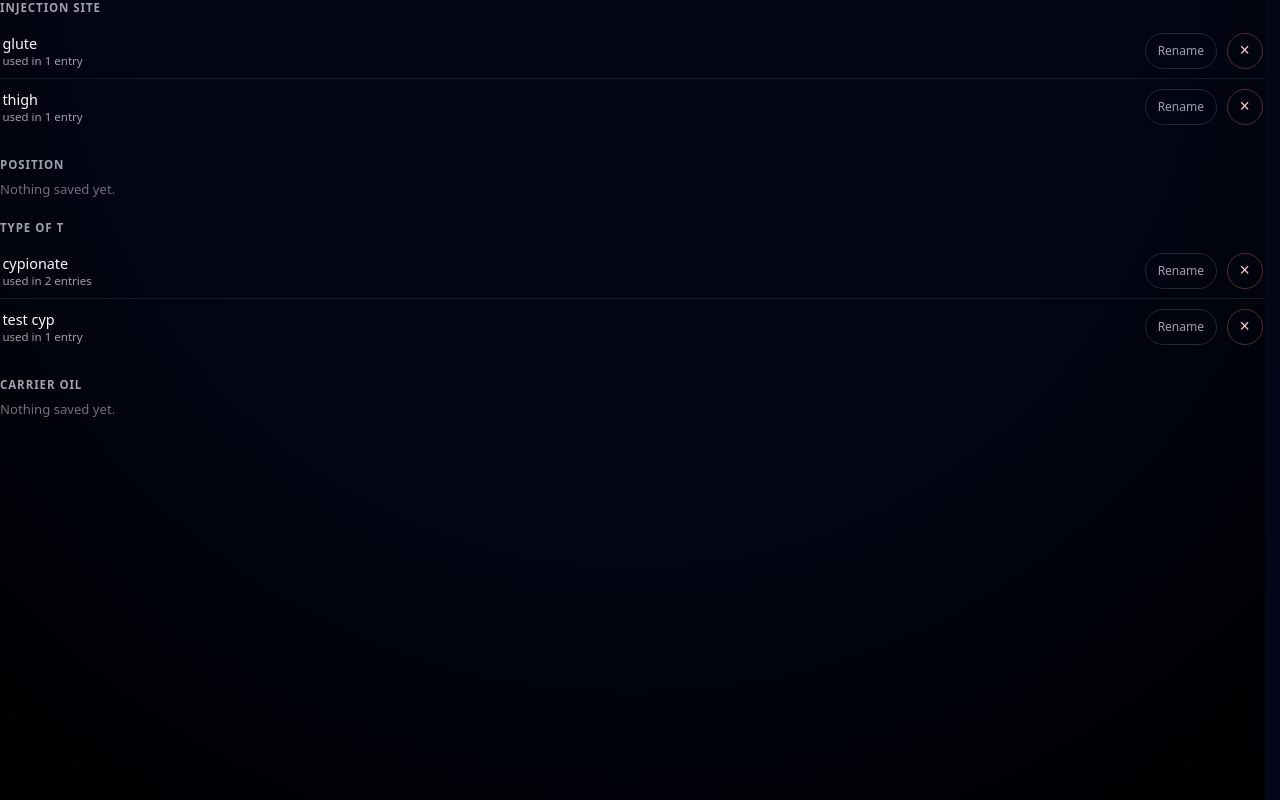
Test: ManageValues › holds the rename dialog open when the change can't be written
Click the button "Rename" in the row of "test cyp" at (1181, 327), box x1=1145 y1=309 x2=1217 y2=345
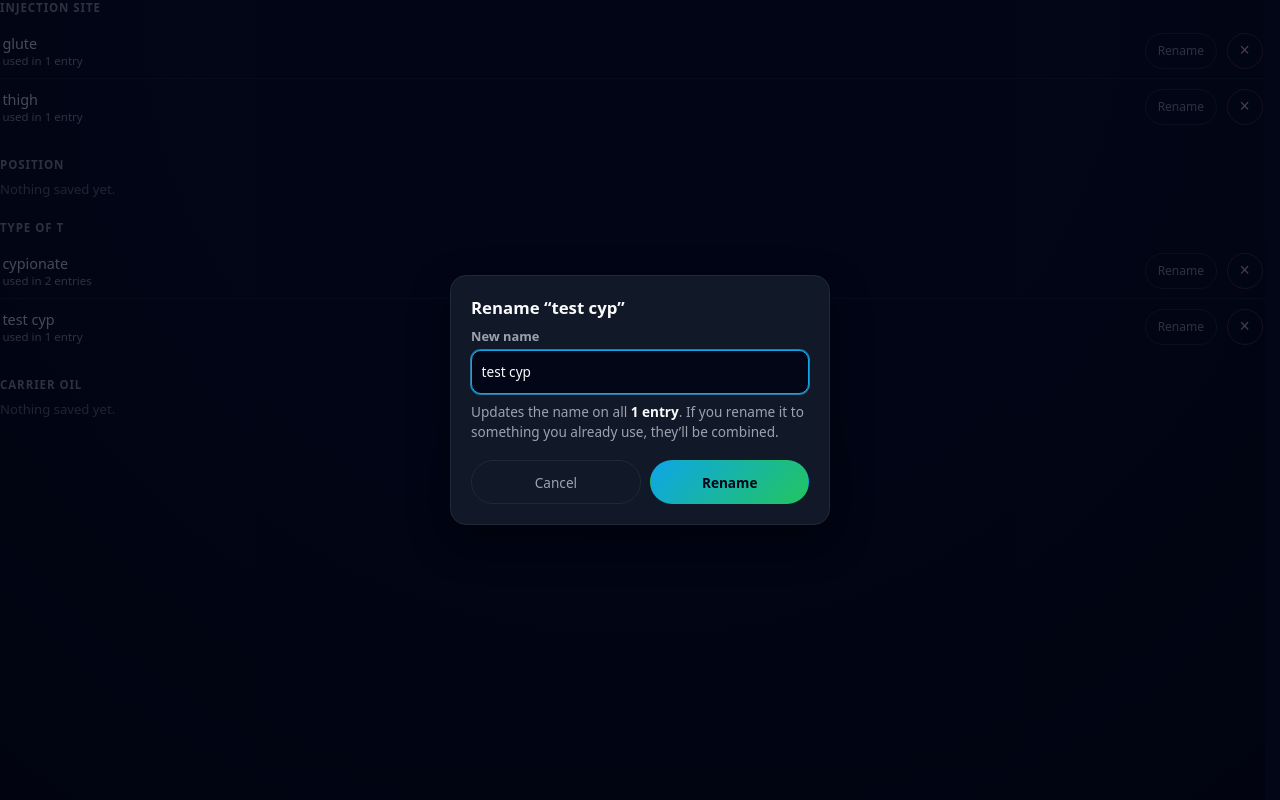
Replace the text in the field with "cyp" at (640, 372), box x1=471 y1=350 x2=809 y2=394
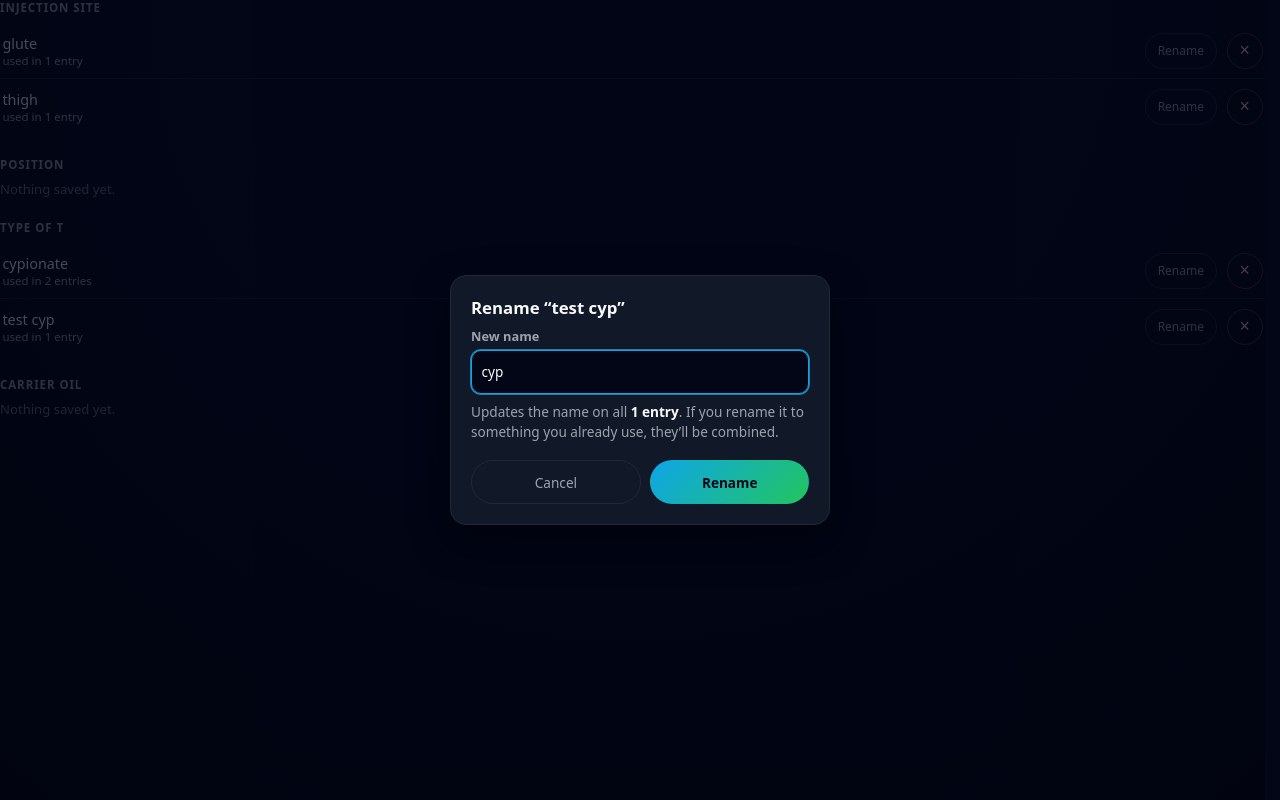
Click the button "Rename" at (730, 482), box x1=650 y1=460 x2=809 y2=504
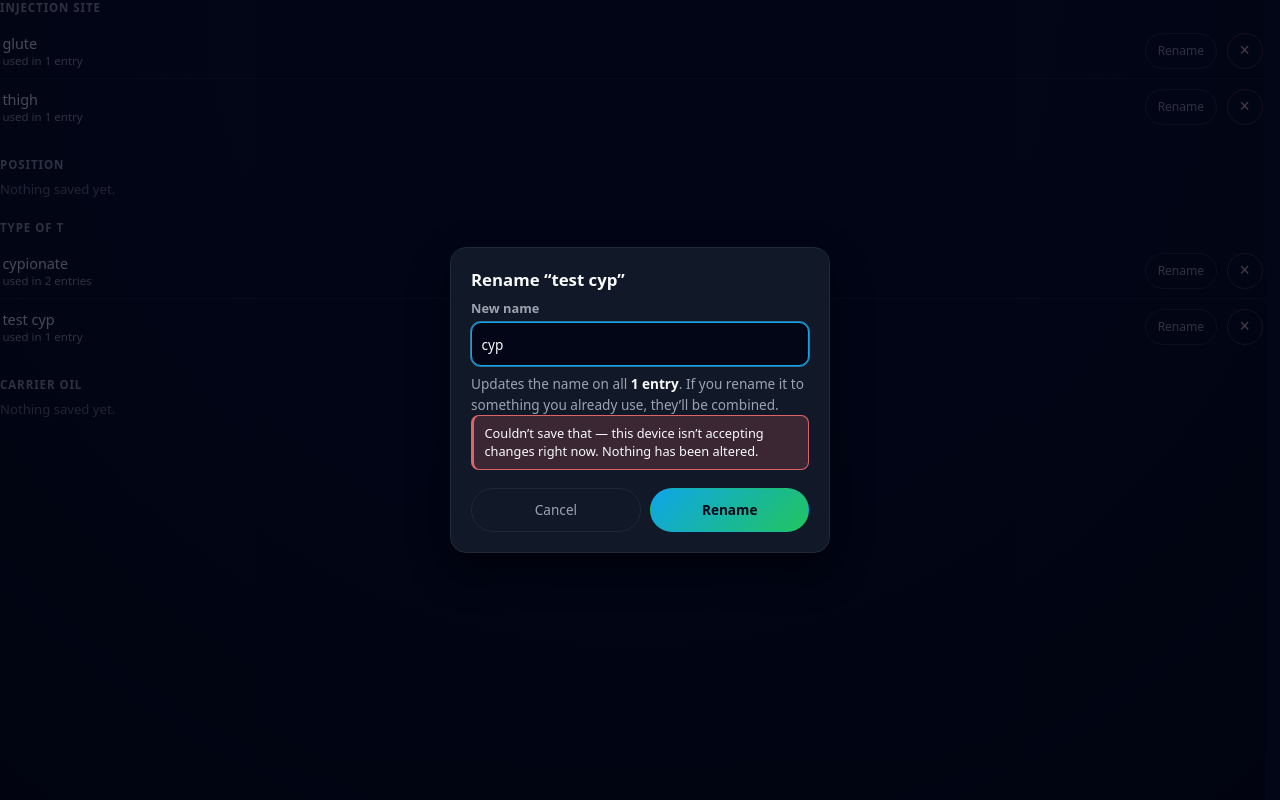
Result: the dialog is shown
Result: the message shows "Couldn.t save that" at x1=484 y1=424 x2=764 y2=460
